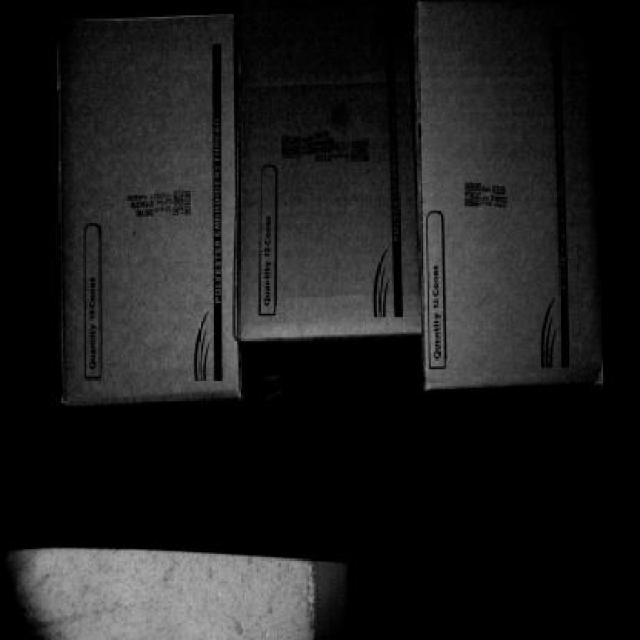cardboxes: (58, 6, 238, 399), (422, 6, 603, 394), (240, 6, 423, 337)
